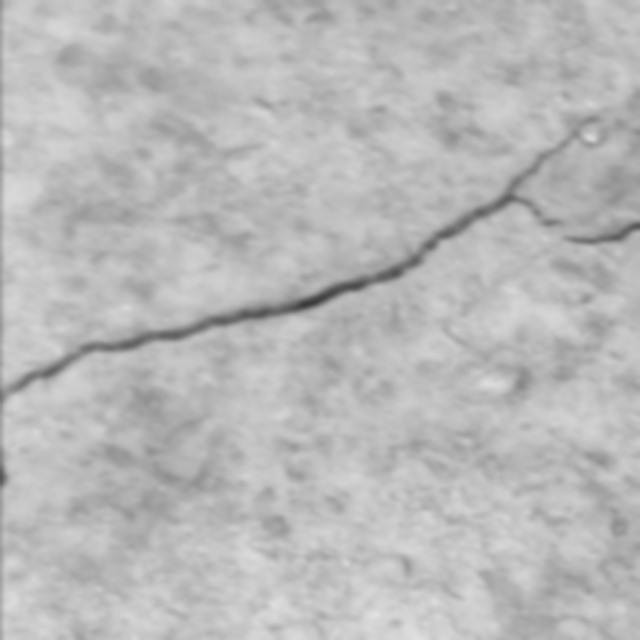SurfaceCrack: (0, 113, 638, 599)
